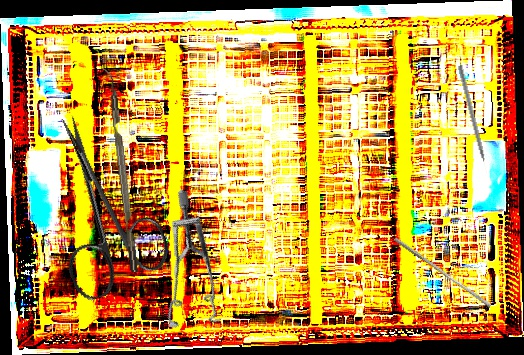Chopper: (99, 66, 138, 274)
Hook Surgical: (456, 64, 490, 176)
Iris Scissors: (17, 99, 177, 305)
Pusher: (390, 236, 495, 309)
Speculum: (120, 188, 267, 347)
